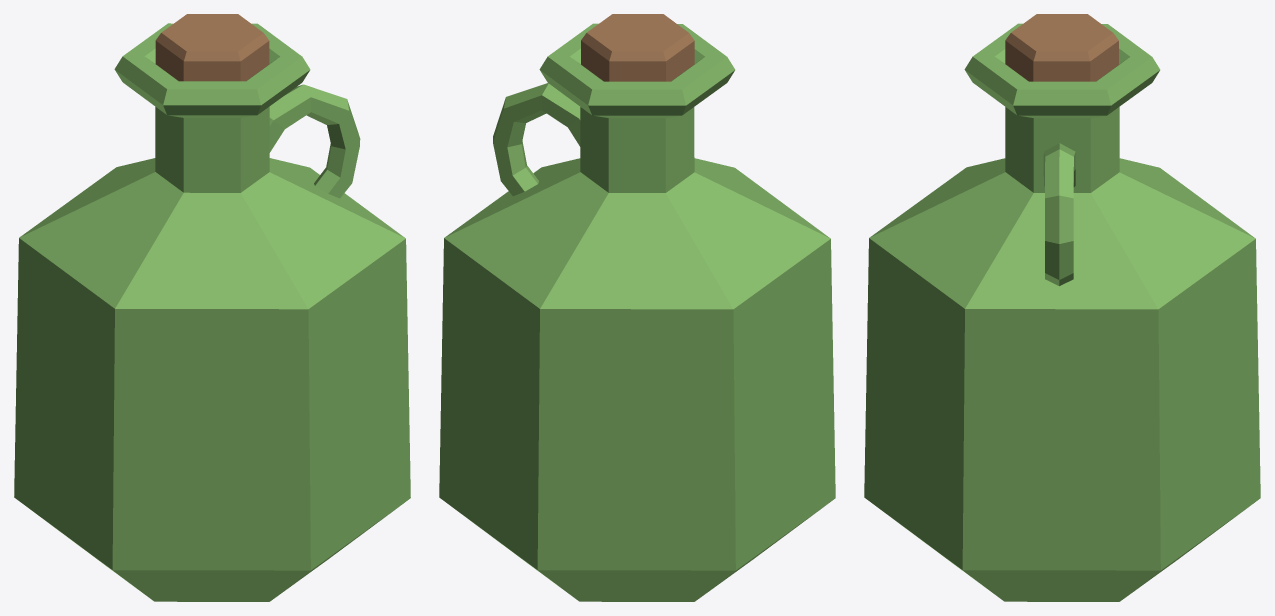
Rendered from Green_Potion_4.fbx.
The picture shows the model from 3 angles, left to right: view 1: azimuth 30°, elevation 25°; view 2: azimuth 150°, elevation 25°; view 3: azimuth 270°, elevation 25°; orthographic projection.
Parts seen in each view (by area): view 1: Green_Potion_4; view 2: Green_Potion_4; view 3: Green_Potion_4.
Boxes of the visible parts, x1=… form: Green_Potion_4: x1=14, y1=14, x2=410, y2=601; Green_Potion_4: x1=439, y1=14, x2=835, y2=601; Green_Potion_4: x1=864, y1=14, x2=1260, y2=601.
Size of the model in its own units: 23.11 by 39.04 by 26.62.
